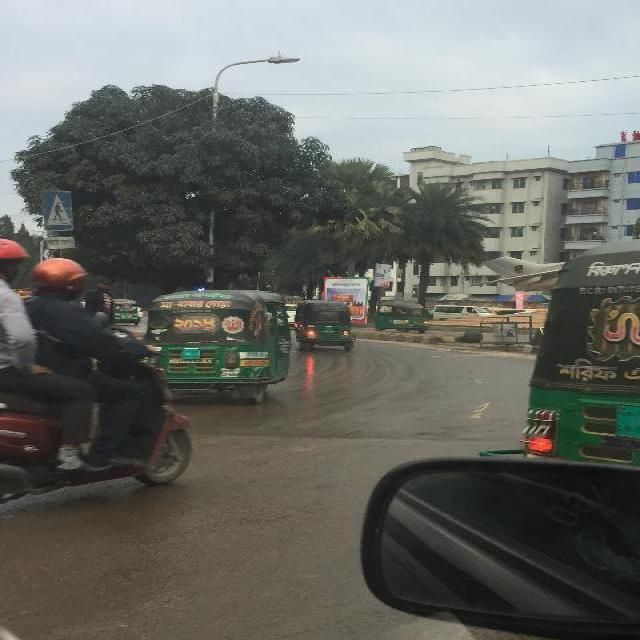scooter: (0, 329, 193, 508)
three wheelers -CNG-: (521, 239, 639, 461), (146, 288, 289, 404), (293, 300, 355, 350), (374, 302, 426, 332), (112, 299, 139, 325)
van: (431, 304, 494, 318)
